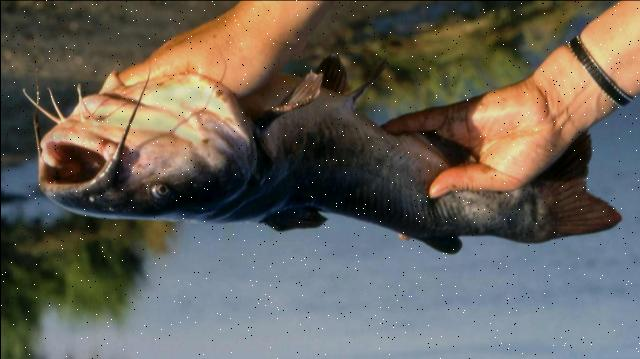Mulut: (9, 99, 141, 218)
Sirip Dada: (240, 57, 332, 138)
Sirip Ekor: (501, 118, 631, 262)
Sirip Perut: (310, 35, 400, 113)
Sirip Punggung: (247, 188, 468, 262)
